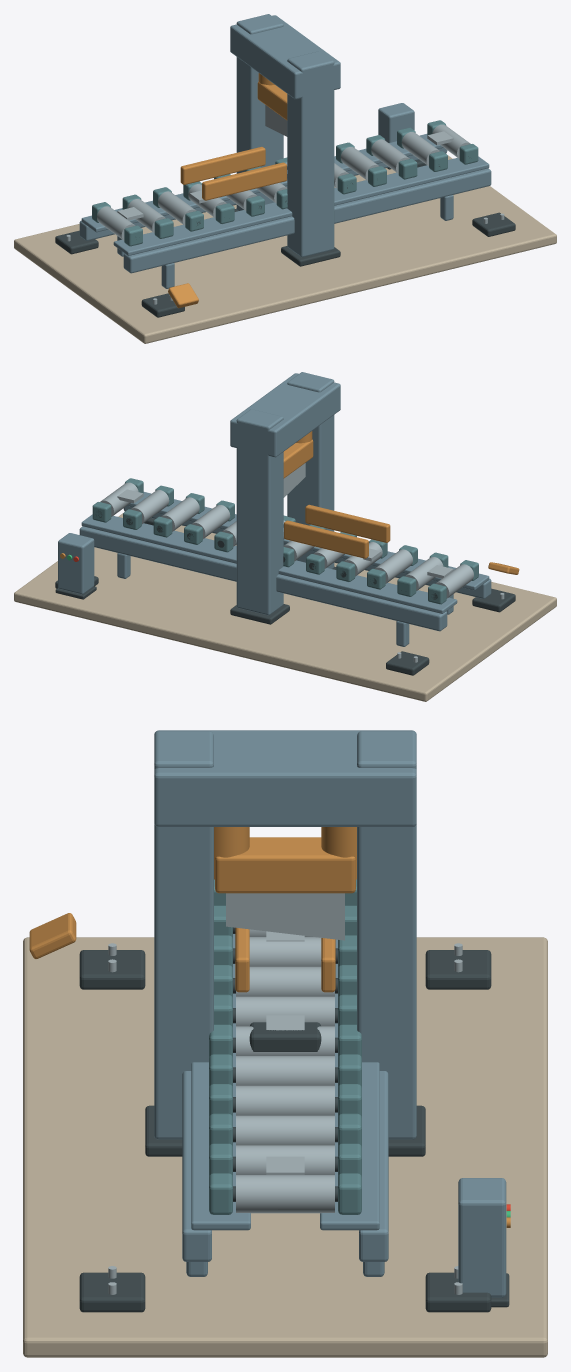
File: CUT-BLOOM-lod0.glb
3 views of the same model, one above another, from view 1: azimuth 30°, elevation 25°; view 2: azimuth 150°, elevation 25°; view 3: azimuth 270°, elevation 25° (orthographic). The views are drawn at different scales.
Visible parts, largest first — view 1: foundation, shear_column_0.85, bed_side_0.74, bearing_seat_0.74, hydraulic_bridge, shear_column_-0.85, section_guide_-1, section_guide_1, control_cabinet, bearing_seat_-0.74, knife_crosshead, bed_side_-0.74 (+14 smaller); view 2: foundation, shear_column_-0.85, bed_side_-0.74, hydraulic_bridge, bearing_seat_-0.74, shear_column_0.85, control_cabinet, section_guide_1, section_guide_-1, bearing_seat_0.74, knife_crosshead, foot_-3.2_-1.45 (+11 smaller); view 3: foundation, hydraulic_bridge, shear_column_-0.85, shear_column_0.85, knife_crosshead, control_cabinet, section_shear_blade, bearing_seat_0.74, bearing_seat_-0.74, support_roll_11, support_roll_8, support_roll_9 (+22 smaller).
Boxes of the visible parts, bbox=[...] form: foundation: bbox=[14, 155, 556, 343]; shear_column_0.85: bbox=[287, 51, 334, 257]; bed_side_0.74: bbox=[123, 168, 491, 273]; bearing_seat_0.74: bbox=[113, 156, 489, 255]; hydraulic_bridge: bbox=[230, 15, 340, 99]; shear_column_-0.85: bbox=[236, 14, 283, 210]; section_guide_-1: bbox=[180, 146, 265, 184]; section_guide_1: bbox=[202, 162, 286, 200]; control_cabinet: bbox=[378, 103, 414, 142]; bearing_seat_-0.74: bbox=[81, 134, 443, 232]; knife_crosshead: bbox=[257, 81, 287, 120]; bed_side_-0.74: bbox=[79, 147, 447, 240]; foundation: bbox=[14, 513, 556, 701]; shear_column_-0.85: bbox=[236, 409, 283, 615]; bed_side_-0.74: bbox=[79, 526, 447, 631]; hydraulic_bridge: bbox=[230, 373, 340, 457]; bearing_seat_-0.74: bbox=[81, 514, 457, 613]; shear_column_0.85: bbox=[287, 372, 334, 568]; control_cabinet: bbox=[58, 533, 94, 594]; section_guide_1: bbox=[305, 504, 390, 542]; section_guide_-1: bbox=[284, 520, 368, 558]; bearing_seat_0.74: bbox=[127, 492, 489, 590]; knife_crosshead: bbox=[283, 439, 313, 478]; foot_-3.2_-1.45: bbox=[386, 651, 429, 675]; foundation: bbox=[23, 937, 547, 1357]; hydraulic_bridge: bbox=[154, 730, 416, 826]; shear_column_-0.85: bbox=[357, 731, 416, 1139]; shear_column_0.85: bbox=[154, 731, 213, 1139]; knife_crosshead: bbox=[215, 837, 355, 893]; control_cabinet: bbox=[458, 1178, 506, 1297]; section_shear_blade: bbox=[226, 893, 344, 940]; bearing_seat_0.74: bbox=[191, 934, 250, 1230]; bearing_seat_-0.74: bbox=[320, 939, 379, 1230]; support_roll_11: bbox=[236, 1175, 334, 1213]; support_roll_8: bbox=[236, 1085, 334, 1115]; support_roll_9: bbox=[236, 1115, 334, 1145].
Size of the model in its own units: 8 by 3.82 by 4.4.
